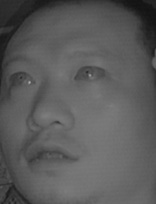eye: (73, 61, 105, 84), (7, 68, 39, 90)
mouth: (21, 135, 81, 174)
